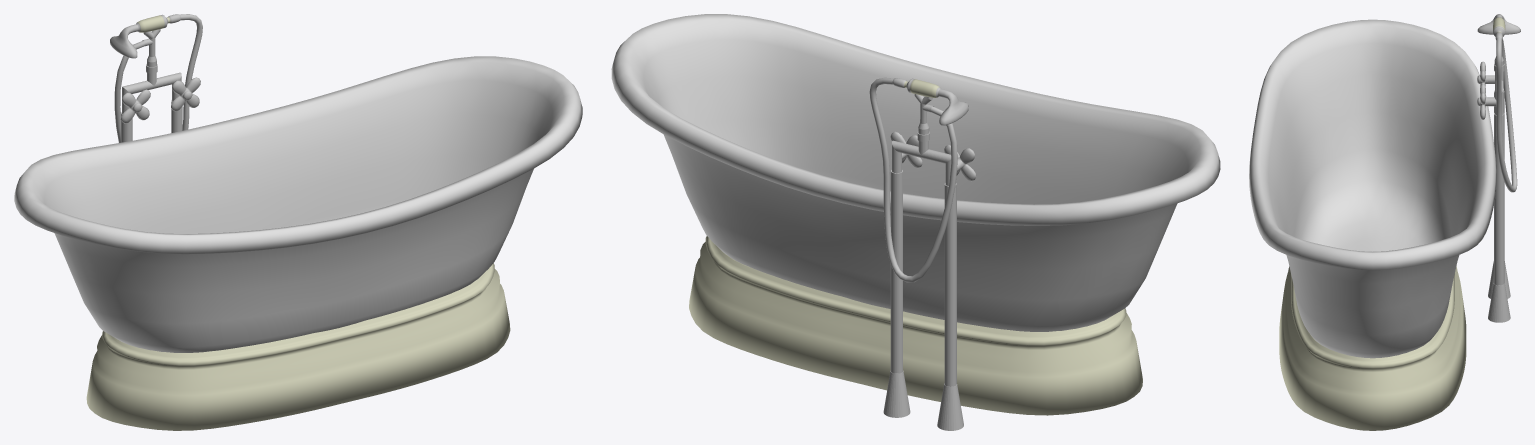
File: BATH.fbx
3 renders of one model, left to right at view 1: azimuth 30°, elevation 25°; view 2: azimuth 150°, elevation 25°; view 3: azimuth 270°, elevation 25°, orthographic. The views are drawn at different scales.
Parts seen in each view (by area): view 1: plinth; view 2: plinth; view 3: plinth.
Boxes of the visible parts, left/top/right/bottom form: plinth: left=14, top=14, right=582, bottom=430; plinth: left=611, top=14, right=1220, bottom=430; plinth: left=1249, top=14, right=1520, bottom=430.
Bounding box in the file's own units: 387 × 214 × 185.
